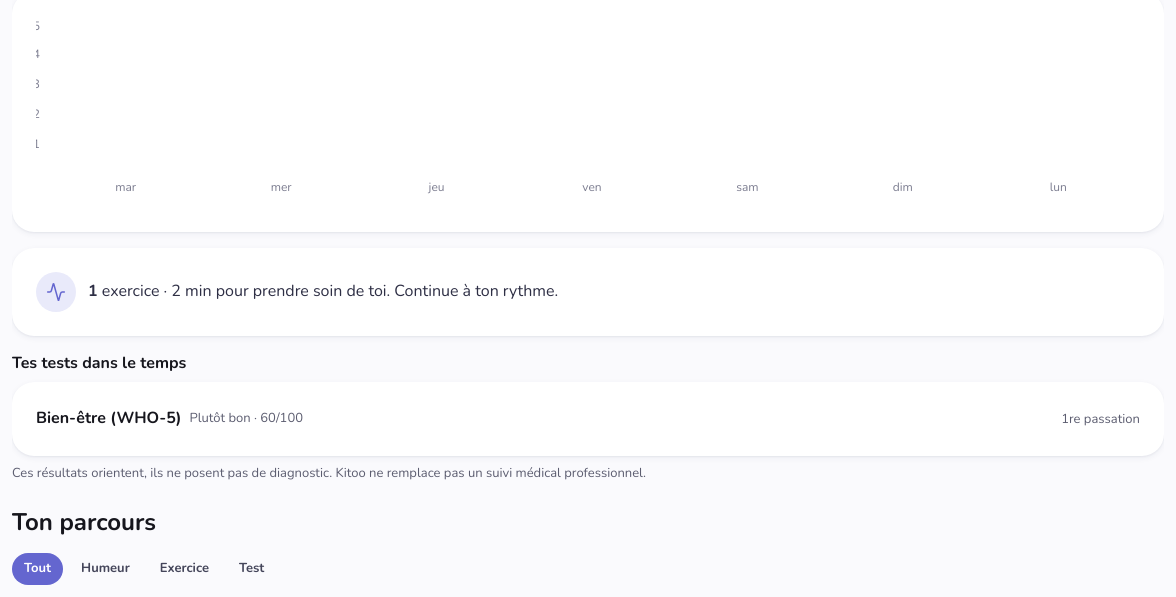
Test: JournalView › affiche un état vide chaleureux pour un filtre sans résultat
What coordinates should you click on to do the following:
click the button "Test"
I would click on:
 (252, 569)
Its box is x1=227 y1=554 x2=276 y2=585.
(page scrolled)
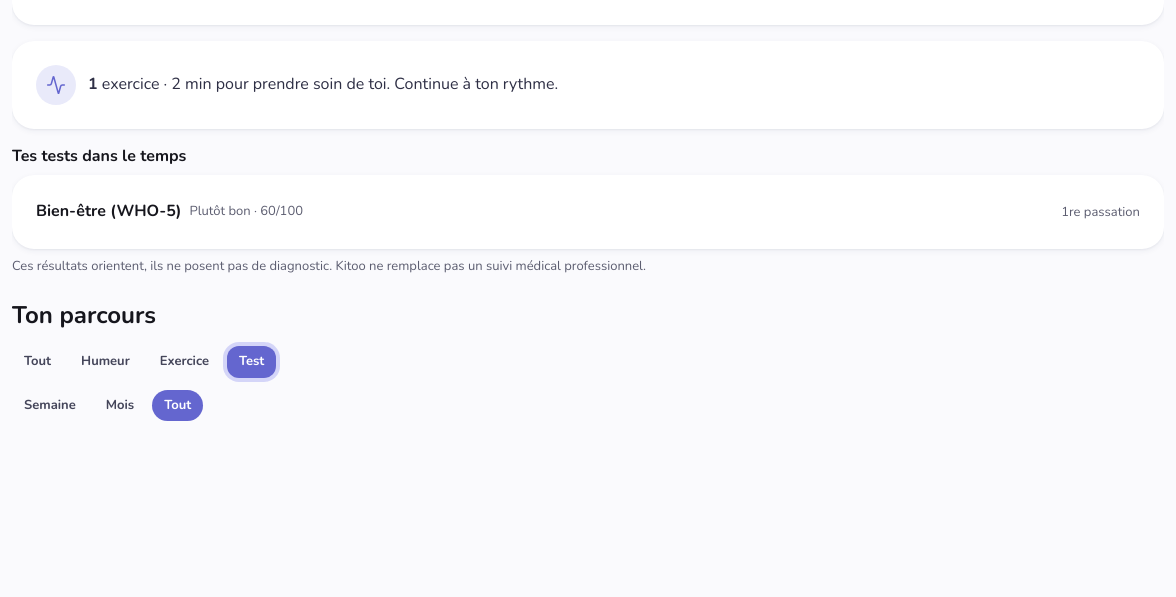
What coordinates should you click on to do the following:
click the button "Semaine"
I would click on:
 (50, 406)
Its box is x1=12 y1=390 x2=88 y2=422.
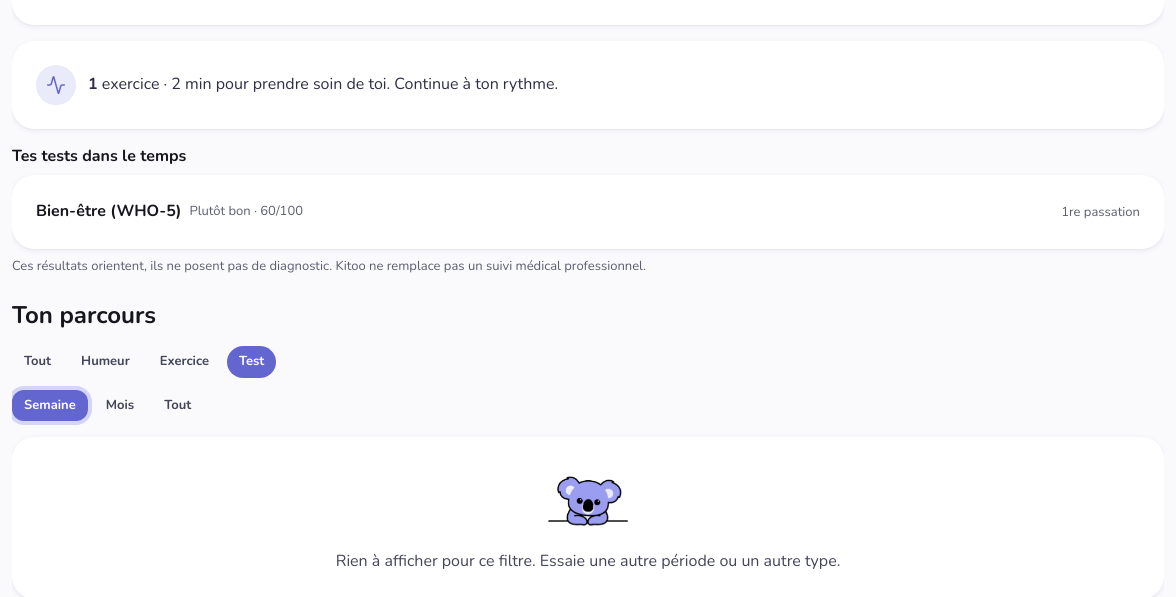
expect the text "Rien à afficher pour ce filtre" is shown: met, box x1=336 y1=550 x2=840 y2=572
